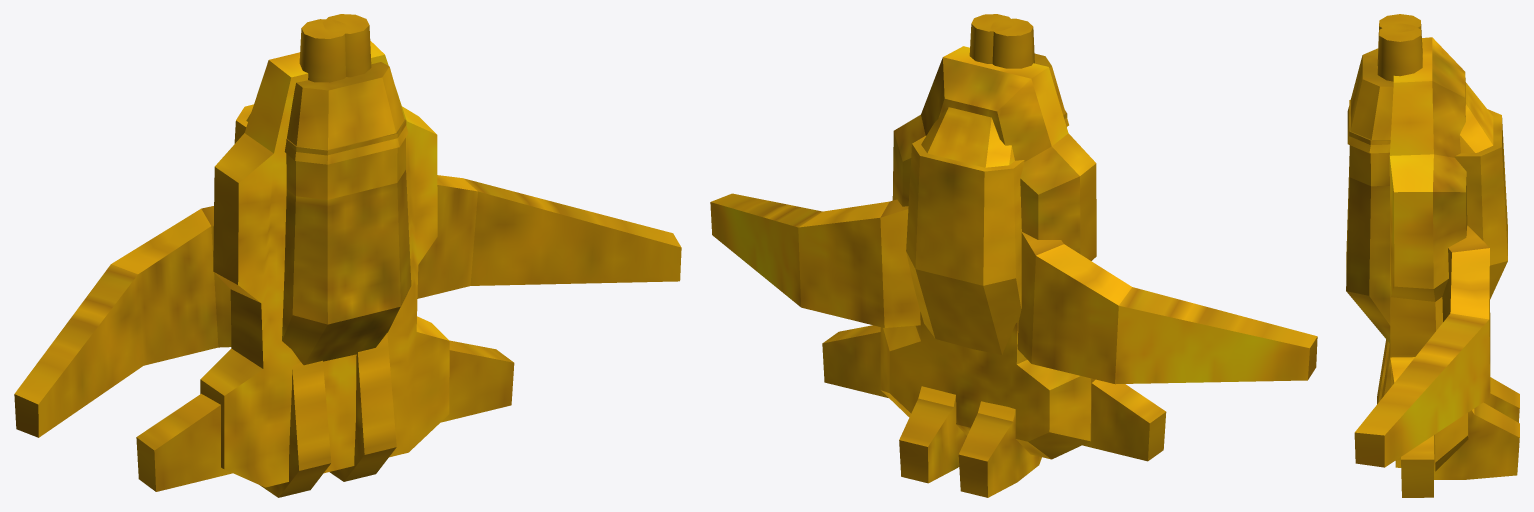
The model's file is shield.fbx.
The picture shows the model from 3 angles, left to right: view 1: azimuth 30°, elevation 25°; view 2: azimuth 150°, elevation 25°; view 3: azimuth 270°, elevation 25°; orthographic projection. The views are drawn at different scales.
Parts seen in each view (by area): view 1: Gun_Ship; view 2: Gun_Ship; view 3: Gun_Ship.
Boxes of the visible parts, bbox=[...] form: Gun_Ship: bbox=[14, 14, 681, 497]; Gun_Ship: bbox=[710, 14, 1317, 497]; Gun_Ship: bbox=[1346, 14, 1519, 497].
Size of the model in its own units: 3180 by 787 by 2148.
Materials: 1 (1 with a texture image).
